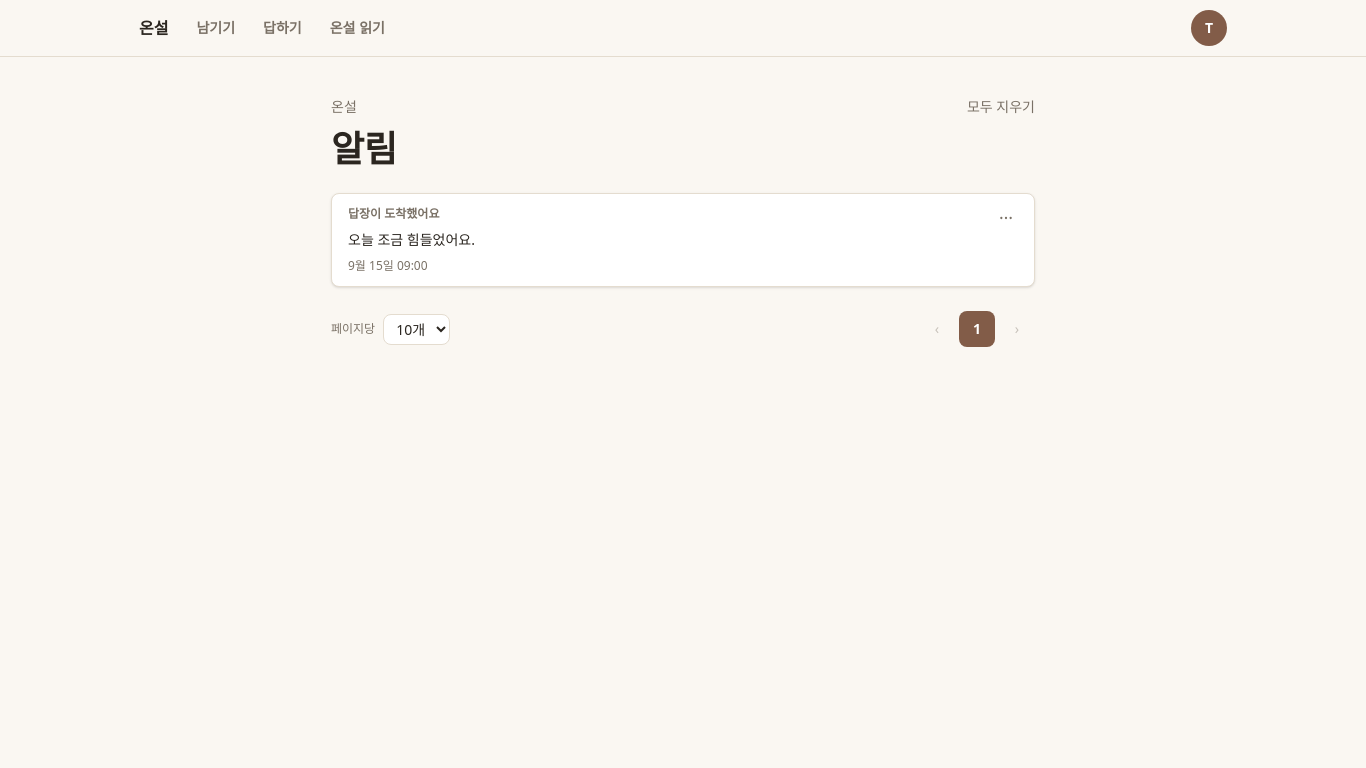
Test: NotificationsPage › deletes a single notification via 더보기 → 삭제하기, with no confirmation dialog
Expected: the text "오늘 조금 힘들었어요." is shown, top-left (348, 230), bottom-right (475, 249)
Click the button named "더보기" at (1006, 218), box top-left (994, 206), bottom-right (1018, 230)
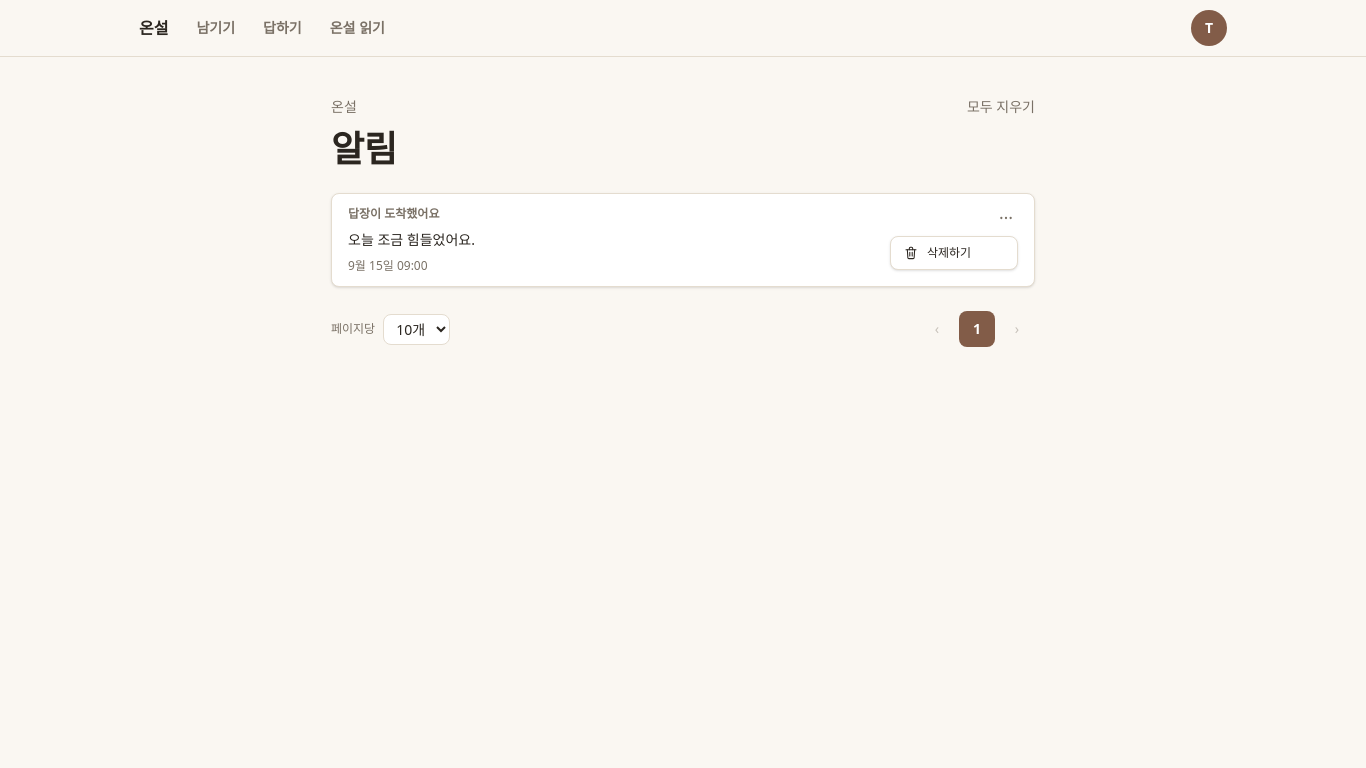
Click the button "삭제하기" at (954, 253), box top-left (891, 237), bottom-right (1017, 269)
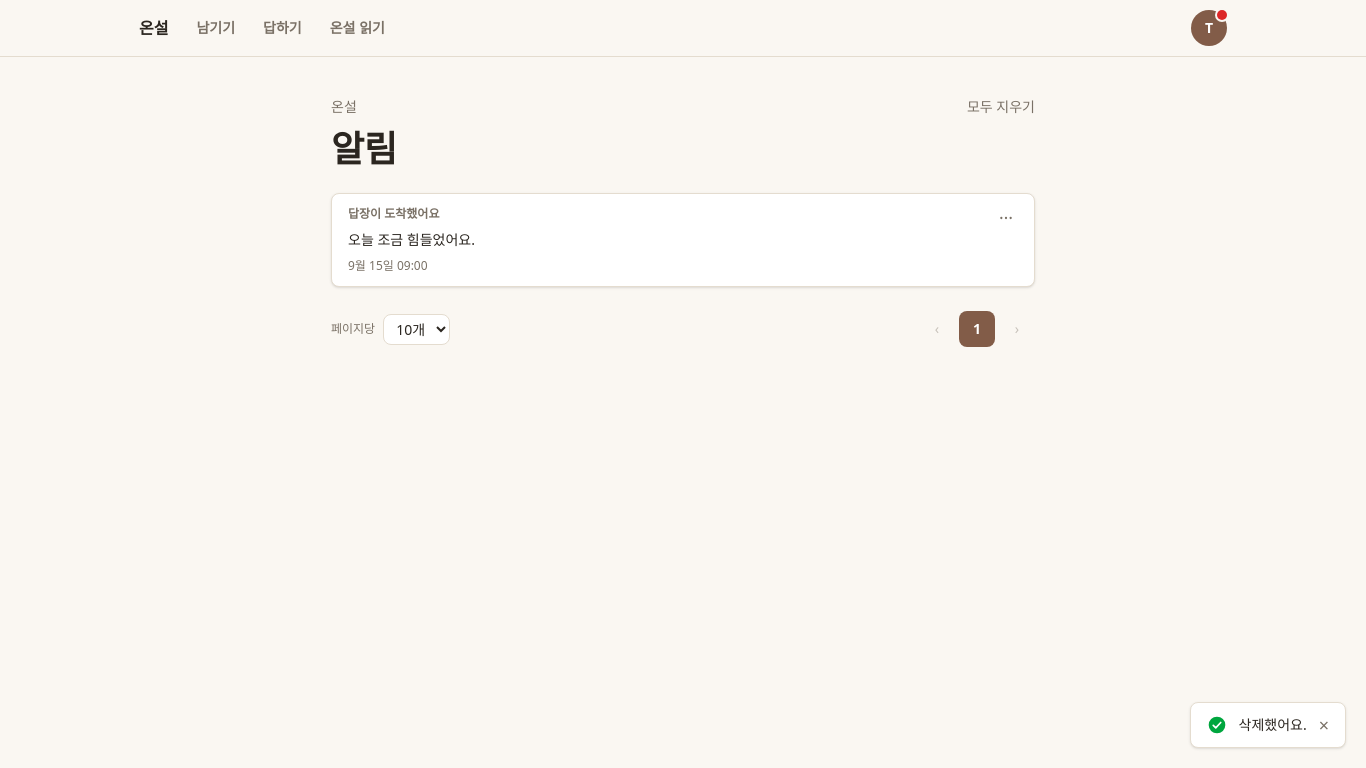
Result: the dialog is gone
